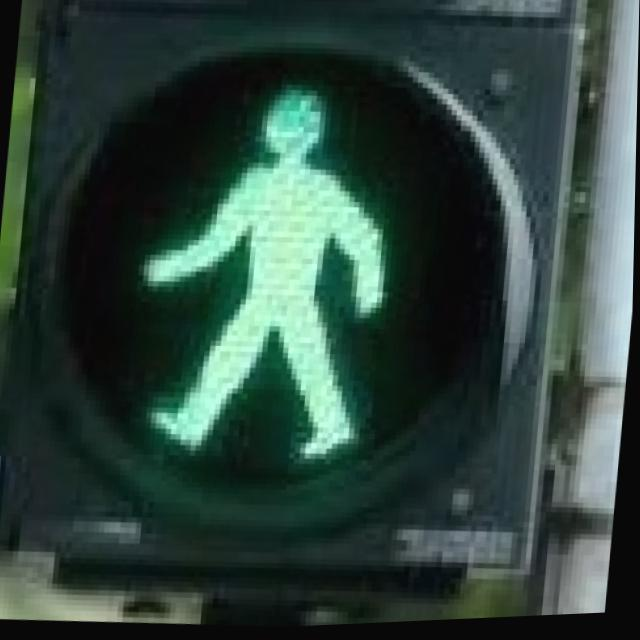green_light: (132, 53, 419, 489)
